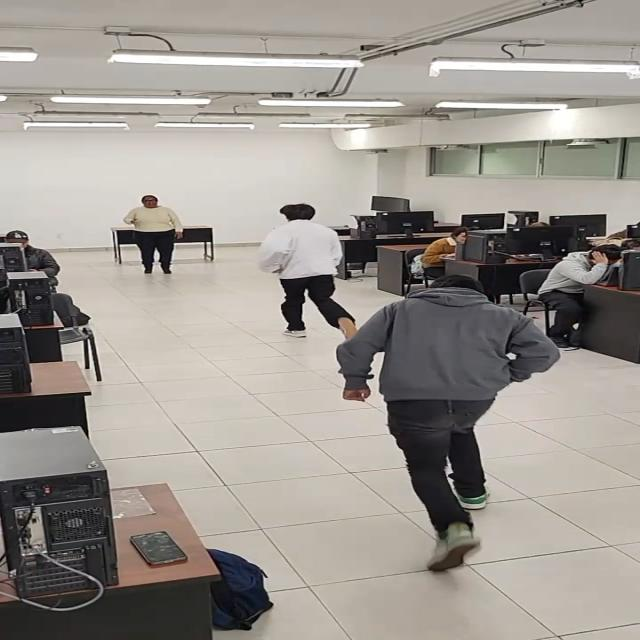Persona: (351, 266, 553, 576), (258, 198, 361, 340), (120, 188, 188, 280)
